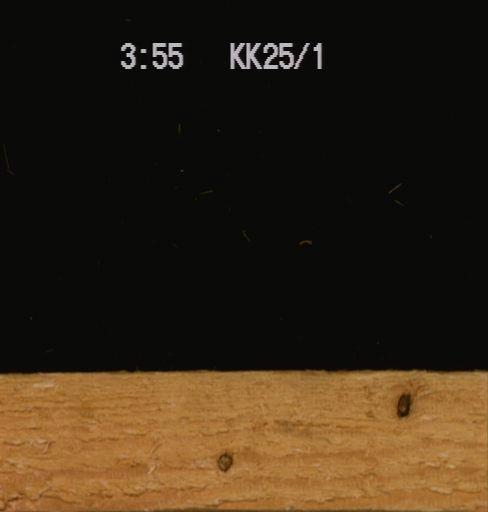dry_knot: (393, 389, 412, 418), (215, 449, 233, 472)
